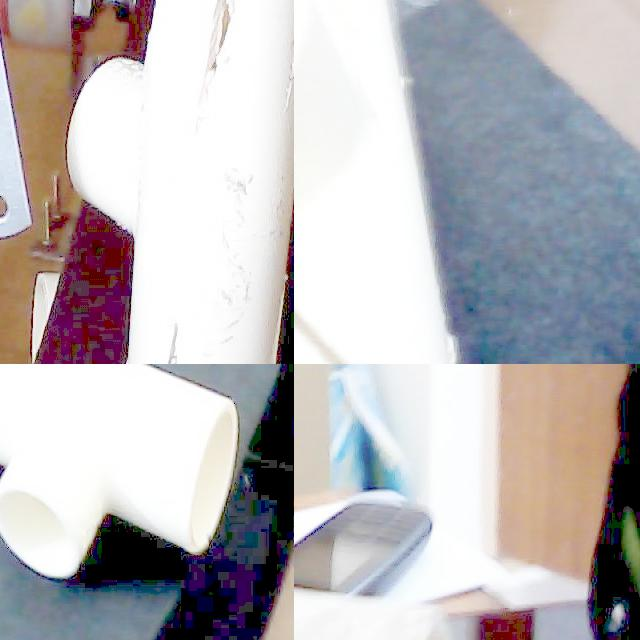Defective: (212, 149, 262, 364), (192, 0, 239, 177), (213, 167, 255, 312), (138, 269, 192, 364), (256, 0, 294, 125), (143, 0, 191, 88), (264, 236, 290, 364), (294, 308, 349, 364), (198, 0, 233, 70), (276, 15, 294, 90), (169, 325, 183, 364)
